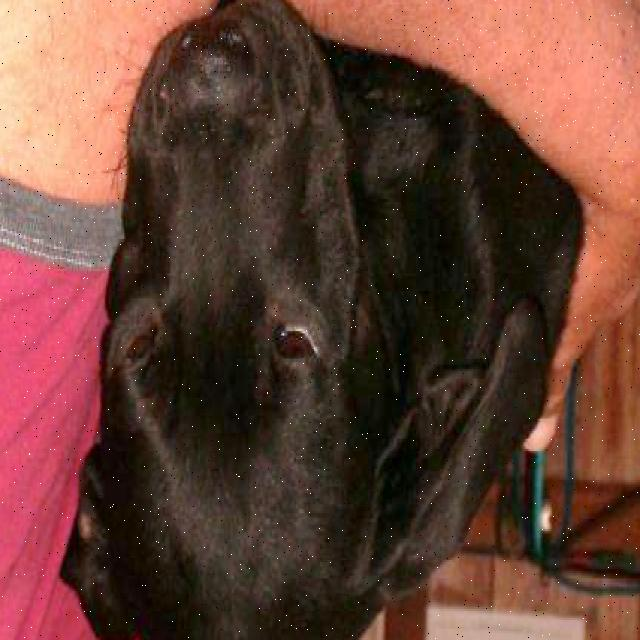Dog: (64, 4, 549, 640)
